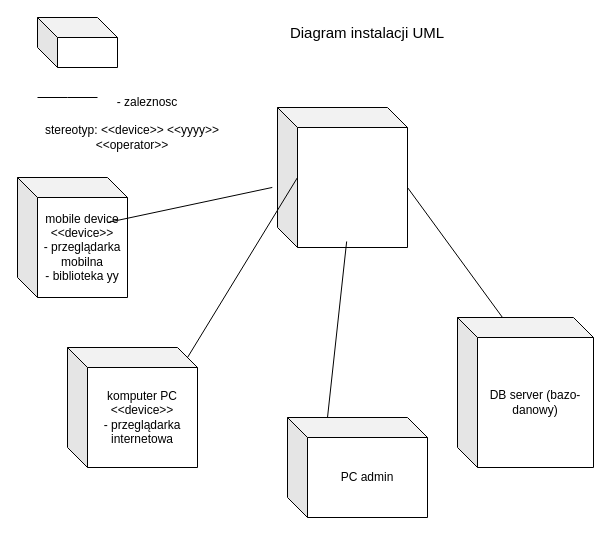
Some shapes in this 611 by 535 pixel diagram are drawn without their labels. The shapes that lost their labels are listed below. From the top down, each one's box as (x1, y1, x2, y2) in pixels, then its label:
(36, 16, 118, 68): nazwa
(276, 106, 408, 248): app server
